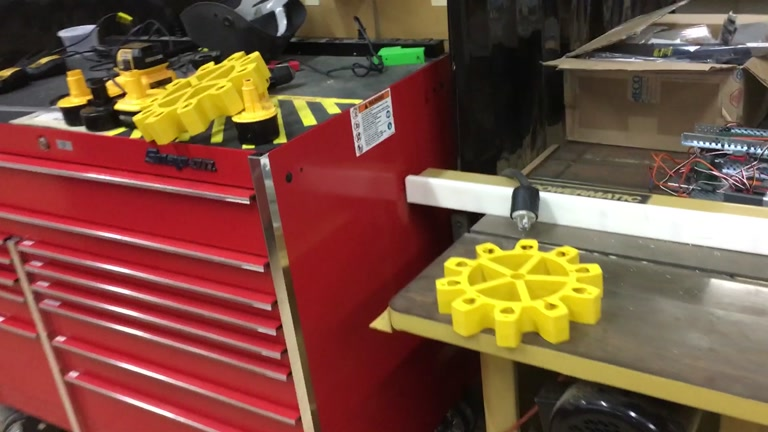gear: (436, 238, 604, 349), (131, 49, 271, 146)
